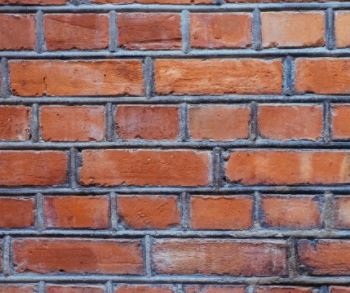brick: (75, 145, 217, 187), (7, 236, 147, 277), (5, 58, 146, 97), (224, 145, 350, 187), (152, 56, 284, 95), (152, 239, 288, 275), (1, 145, 71, 188), (261, 8, 327, 49), (41, 192, 112, 229), (188, 191, 257, 229), (117, 191, 185, 229), (188, 10, 254, 49), (37, 103, 106, 140), (45, 12, 110, 51), (117, 9, 181, 48), (111, 104, 180, 140), (262, 193, 328, 229), (292, 55, 350, 95), (259, 104, 322, 140), (294, 237, 350, 277), (187, 104, 250, 136), (1, 193, 37, 230), (1, 13, 37, 49), (1, 103, 30, 140), (330, 104, 350, 140), (335, 7, 350, 48)
